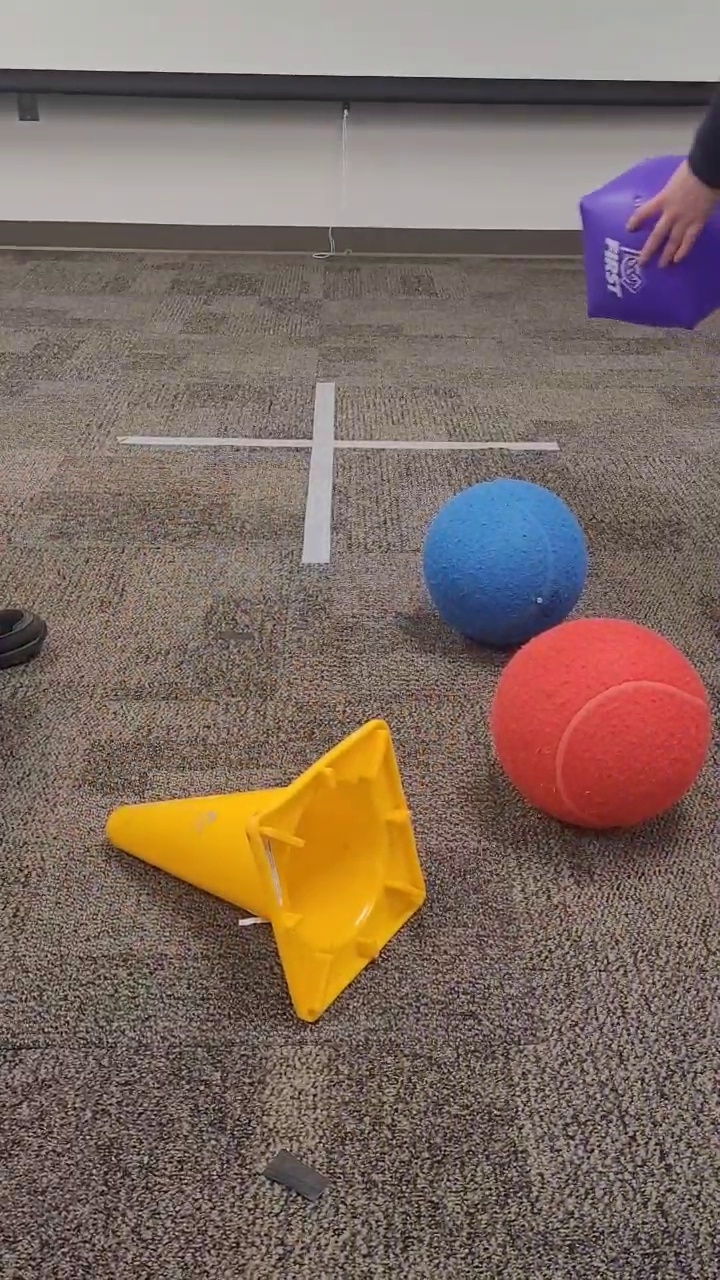ball: (485, 615, 713, 833), (420, 476, 591, 649)
cone: (102, 713, 429, 1026)
cube: (572, 153, 720, 335)
foot: (1, 601, 52, 675)
hand: (622, 79, 720, 270)
